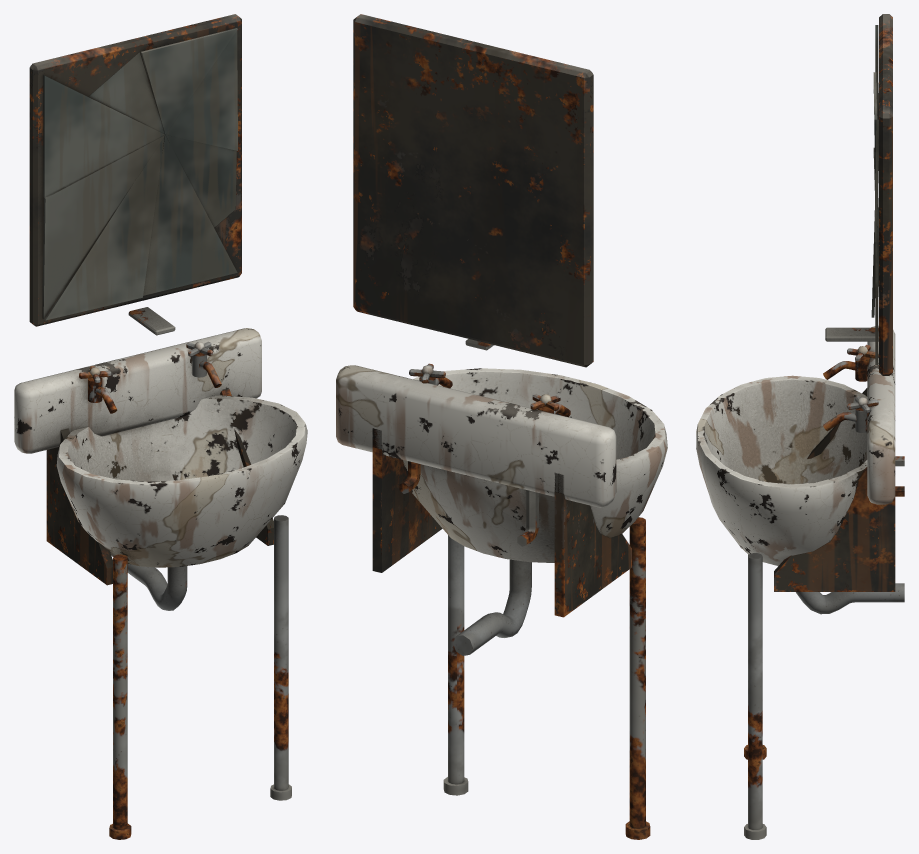
File: WallSink.fbx
3 views of the same model, side by side, from view 1: azimuth 30°, elevation 25°; view 2: azimuth 150°, elevation 25°; view 3: azimuth 270°, elevation 25° (orthographic). The views are drawn at different scales.
Visible parts, largest first — view 1: WallSink; view 2: WallSink; view 3: WallSink.
Part boxes in pixels (box(x1,y1,x2,y2)): WallSink: box(14, 14, 307, 839); WallSink: box(336, 14, 667, 839); WallSink: box(696, 14, 904, 839).
Bounding box in the file's own units: 1.8 × 5.19 × 1.34.
Materials: 1 (1 with a texture image).
